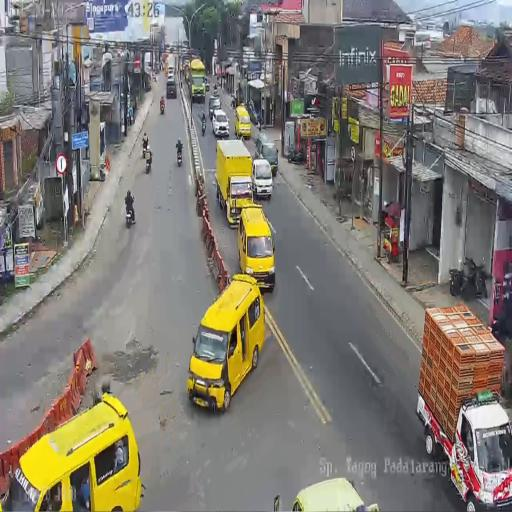3: (416, 306, 511, 510), (216, 138, 254, 225), (187, 58, 207, 103), (166, 54, 176, 78)
car: (8, 392, 142, 511), (186, 276, 265, 410), (237, 204, 276, 290), (250, 158, 274, 201), (234, 104, 251, 140), (212, 108, 230, 138), (166, 76, 176, 98)
truck: (125, 194, 135, 226), (142, 132, 148, 156), (145, 152, 151, 174), (176, 145, 182, 166), (201, 114, 206, 136), (160, 96, 165, 114), (231, 95, 237, 109), (160, 60, 163, 72)
